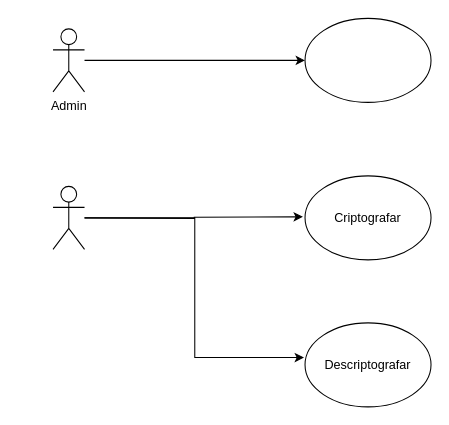
This 449x425 diagram has some shape labels left out. The centre of each missing label's shape, as x and y in pixels:
"App Consumidora" goes at pixel 68 217.
"Gerenciar Configurador de Criptografia" goes at pixel 367 59.
